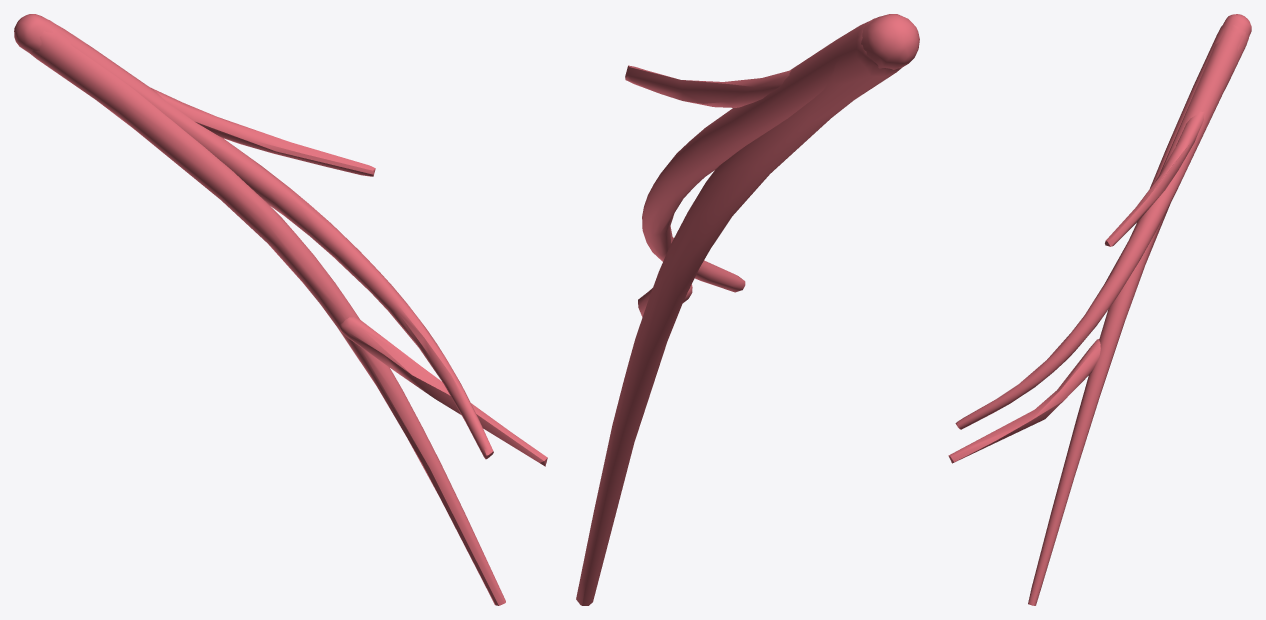
File: fma8678_cx284.glb
3 views of the same model, side by side, from view 1: azimuth 30°, elevation 25°; view 2: azimuth 150°, elevation 25°; view 3: azimuth 270°, elevation 25° (orthographic). The views are drawn at different scales.
Parts seen in each view (by area): view 1: FMA8678_CX284; view 2: FMA8678_CX284; view 3: FMA8678_CX284.
Part boxes in pixels (x1,y1,x2,y2): FMA8678_CX284: (14,14,547,605); FMA8678_CX284: (576,14,919,605); FMA8678_CX284: (948,14,1251,605).
Bounding box in the file's own units: 0.0524 × 0.0805 × 0.0482.
